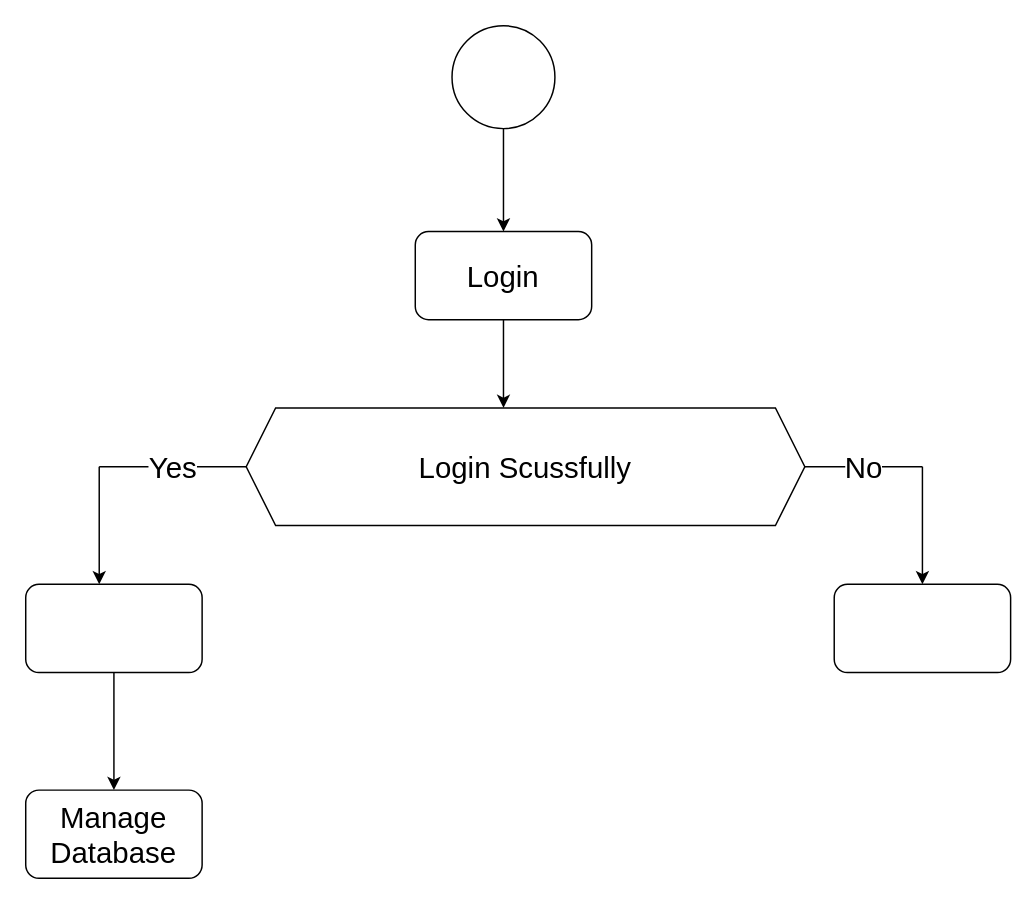
Some shapes in this 1036 by 904 pixel diagram are drawn without their labels. The shapes that lost their labels are listed below. From the top down, each one's box as (x1, y1, x2, y2) in pixels, then its label:
(24, 583, 202, 673): View Dashboard
(833, 583, 1011, 673): Show Error Message
